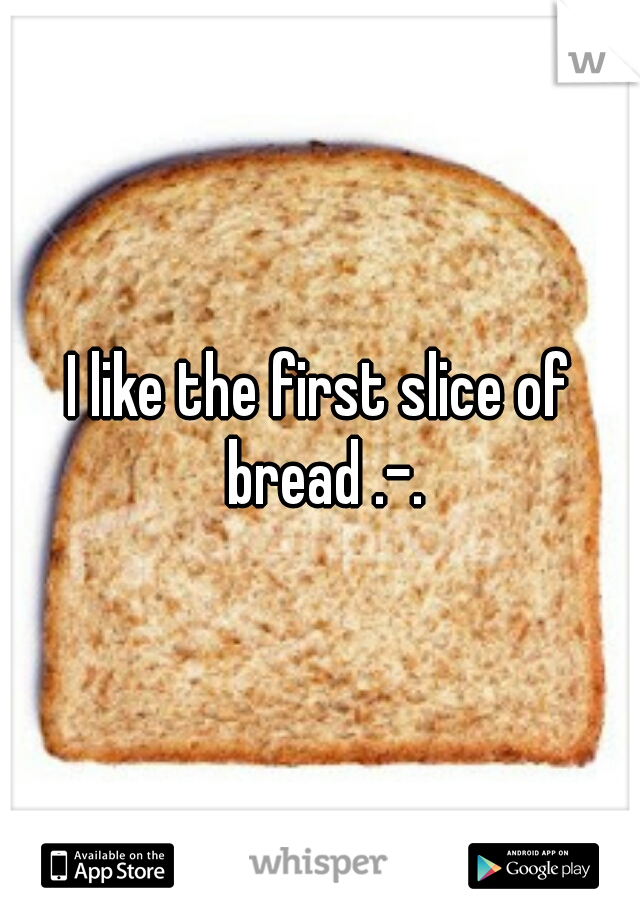slice of bread: (20, 152, 617, 783)
